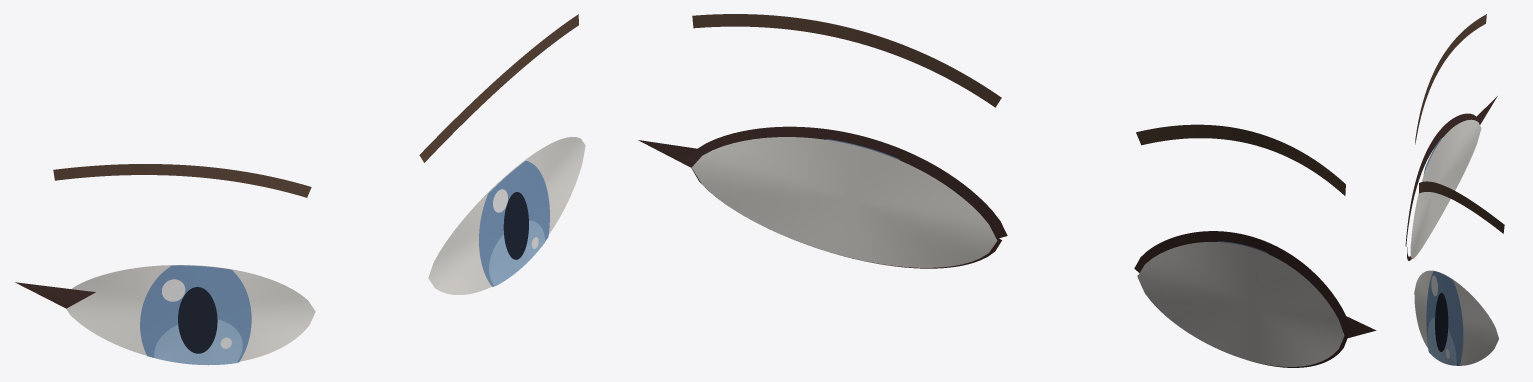
The picture shows the model from 3 angles, left to right: view 1: azimuth 30°, elevation 25°; view 2: azimuth 150°, elevation 25°; view 3: azimuth 270°, elevation 25°; orthographic projection. The views are drawn at different scales.
Parts seen in each view (by area): view 1: Eye_White_-1, Eye_White_1, Eye_Iris_-1, Eye_Iris_1, Eyebrow_-1, Eye_Iris_Light_-1, Eye_Pupil_-1, Eyebrow_1, Eye_Iris_Light_1, Eye_Pupil_1, Eye_LashWing_-1; view 2: Eye_White_1, Eye_White_-1, Eyebrow_1, Eye_UpperLid_1, Eyebrow_-1, Eye_UpperLid_-1, Eye_LashWing_1; view 3: Eye_White_-1, Eye_White_1, Eye_Iris_1, Eyebrow_1, Eye_UpperLid_-1, Eyebrow_-1, Eye_Iris_Light_1, Eye_Pupil_1, Eye_LashWing_-1, Eye_Glint_1_0.
Boxes of the visible parts, x1=… form: Eye_White_-1: x1=66, y1=265, x2=315, y2=361; Eye_White_1: x1=428, y1=137, x2=585, y2=294; Eye_Iris_-1: x1=140, y1=265, x2=251, y2=362; Eye_Iris_1: x1=479, y1=161, x2=549, y2=286; Eyebrow_-1: x1=53, y1=164, x2=311, y2=197; Eye_Iris_Light_-1: x1=154, y1=319, x2=242, y2=365; Eye_Pupil_-1: x1=178, y1=287, x2=217, y2=353; Eyebrow_1: x1=419, y1=14, x2=578, y2=162; Eye_Iris_Light_1: x1=489, y1=220, x2=544, y2=286; Eye_Pupil_1: x1=503, y1=192, x2=528, y2=259; Eye_LashWing_-1: x1=15, y1=282, x2=95, y2=308; Eye_White_1: x1=691, y1=137, x2=997, y2=267; Eye_White_-1: x1=1137, y1=242, x2=1344, y2=366; Eyebrow_1: x1=692, y1=14, x2=1001, y2=107; Eye_UpperLid_1: x1=687, y1=126, x2=1007, y2=238; Eyebrow_-1: x1=1136, y1=124, x2=1345, y2=195; Eye_UpperLid_-1: x1=1134, y1=231, x2=1351, y2=333; Eye_LashWing_1: x1=638, y1=140, x2=711, y2=167; Eye_White_-1: x1=1410, y1=119, x2=1481, y2=258; Eye_White_1: x1=1414, y1=270, x2=1498, y2=365; Eye_Iris_1: x1=1426, y1=271, x2=1463, y2=365; Eyebrow_1: x1=1419, y1=181, x2=1504, y2=233; Eye_UpperLid_-1: x1=1405, y1=113, x2=1479, y2=246; Eyebrow_-1: x1=1415, y1=14, x2=1486, y2=144; Eye_Iris_Light_1: x1=1427, y1=317, x2=1456, y2=365; Eye_Pupil_1: x1=1435, y1=293, x2=1448, y2=351; Eye_LashWing_-1: x1=1473, y1=96, x2=1497, y2=124; Eye_Glint_1_0: x1=1431, y1=275, x2=1437, y2=296.
Size of the model in its own units: 0.4435 by 0.1548 by 0.0828.
